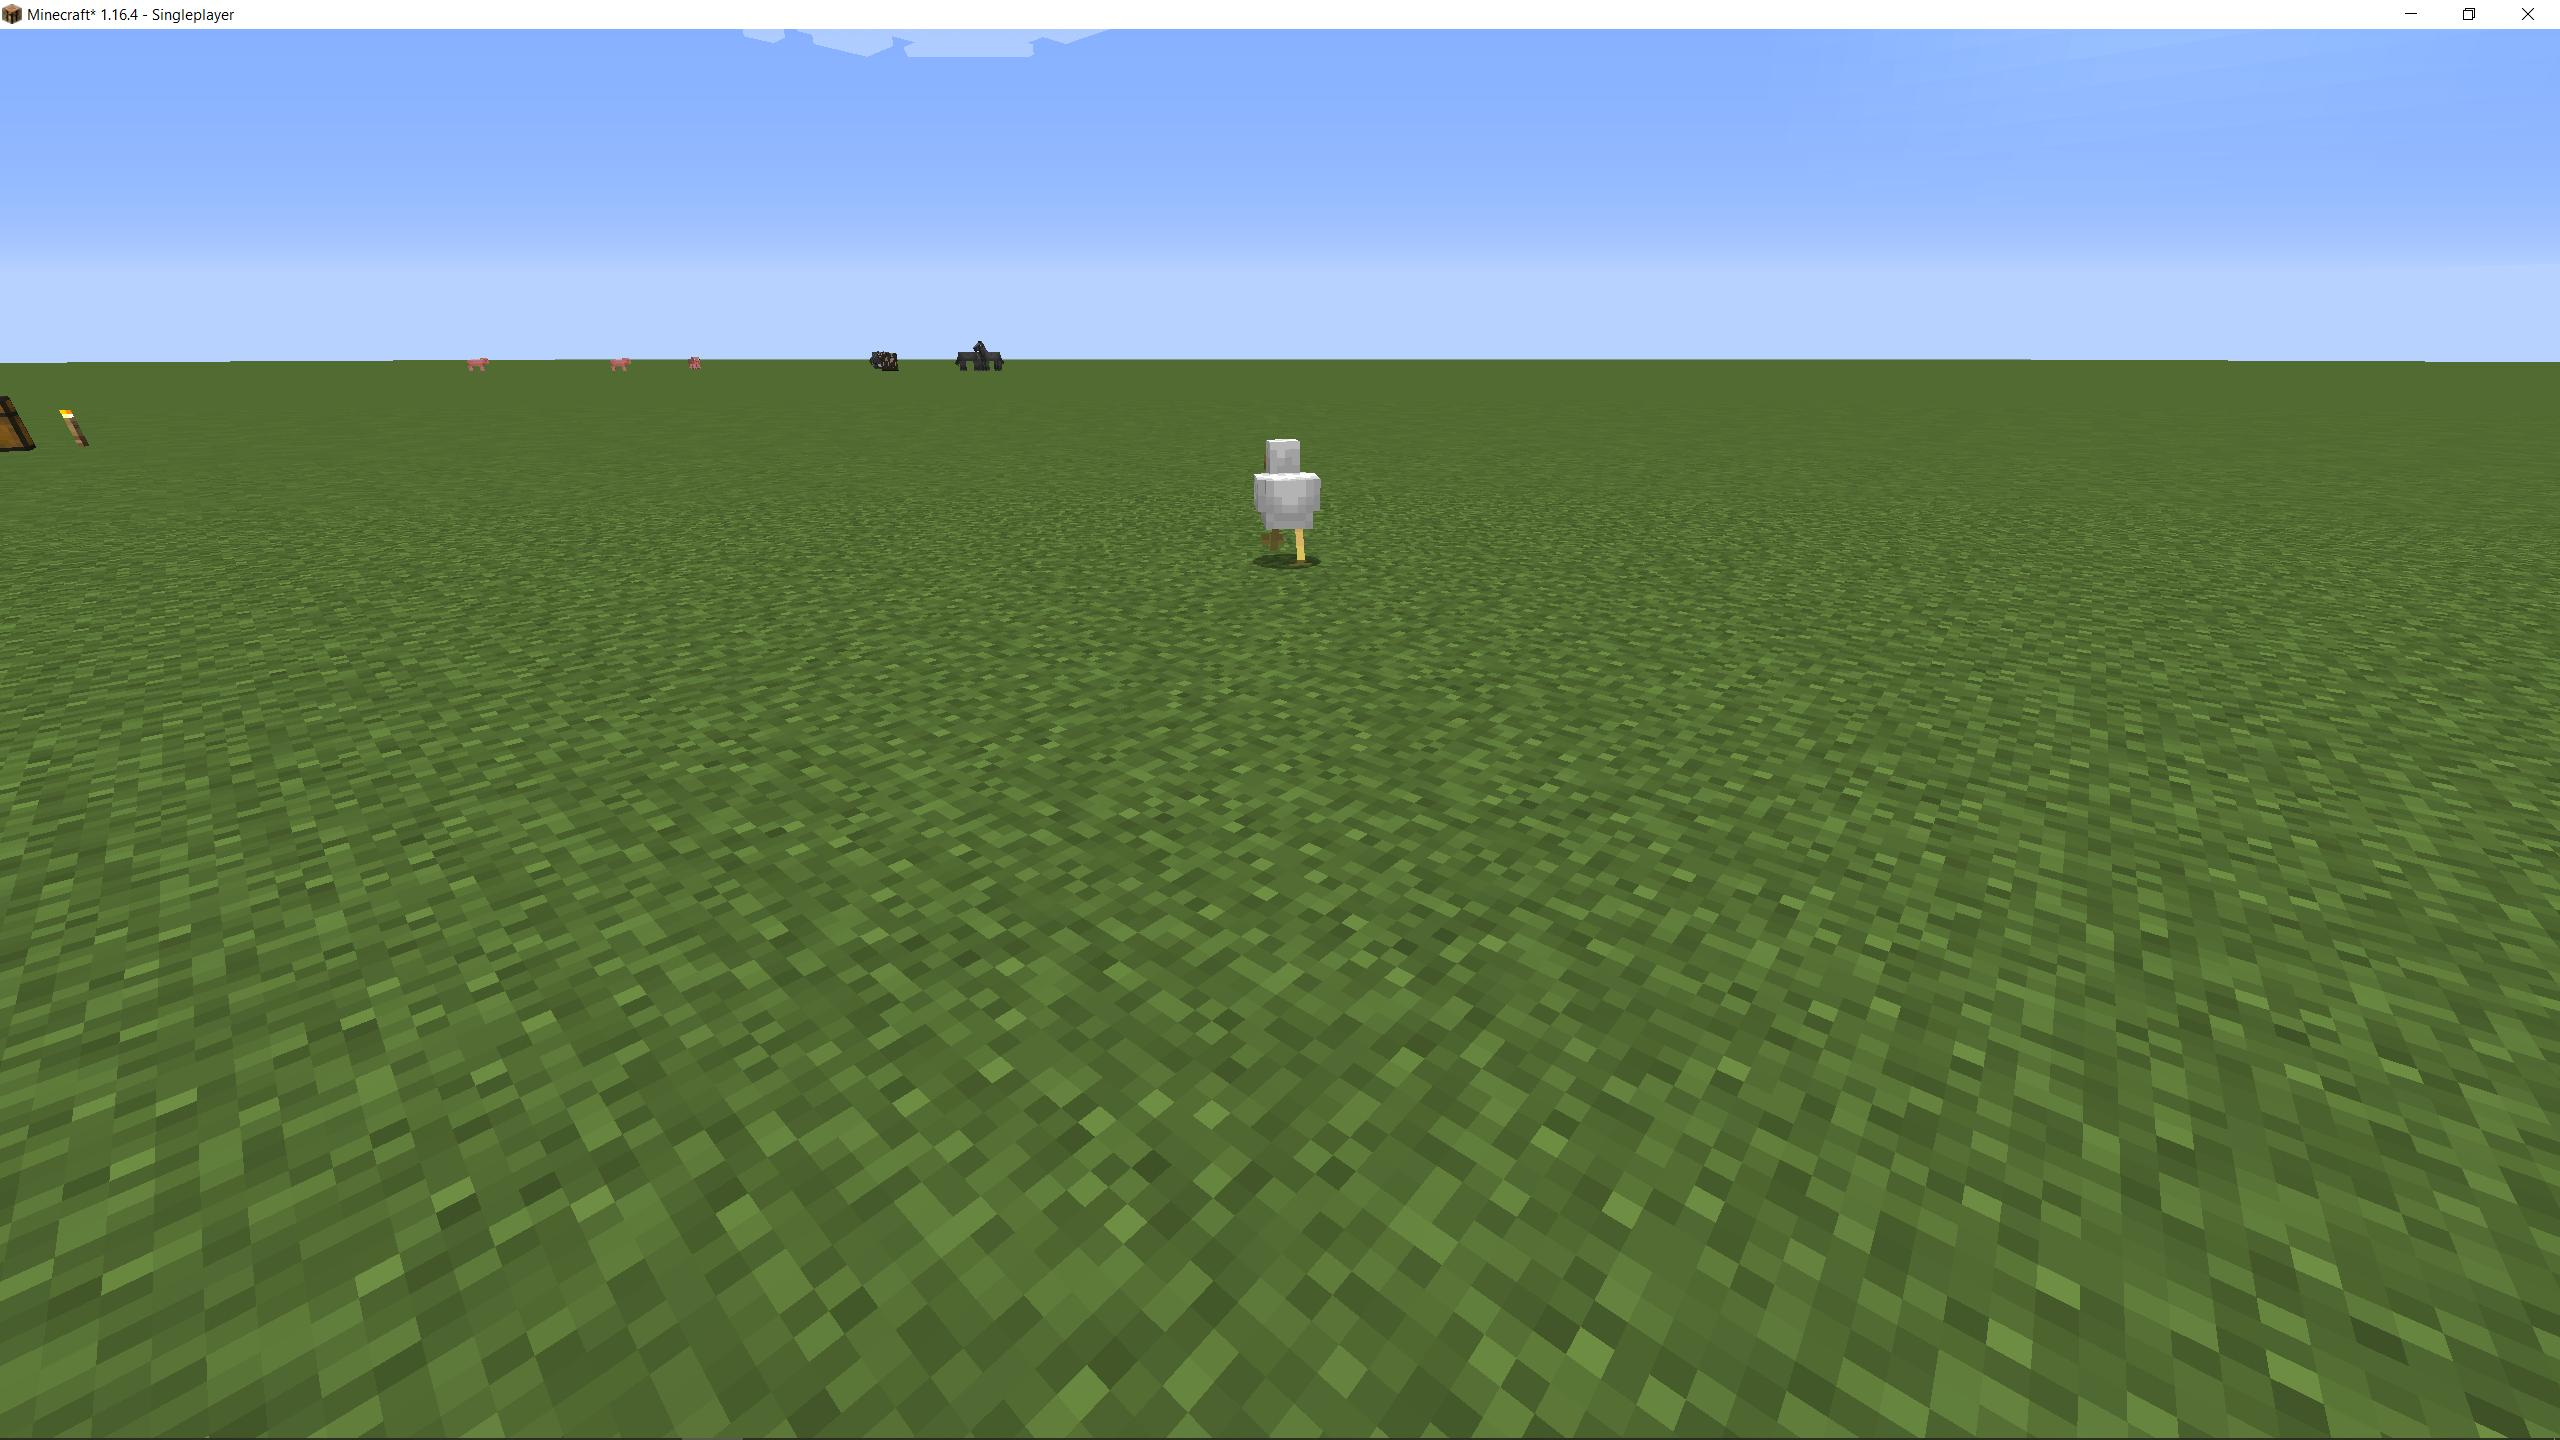chicken: (1252, 427, 1329, 566)
